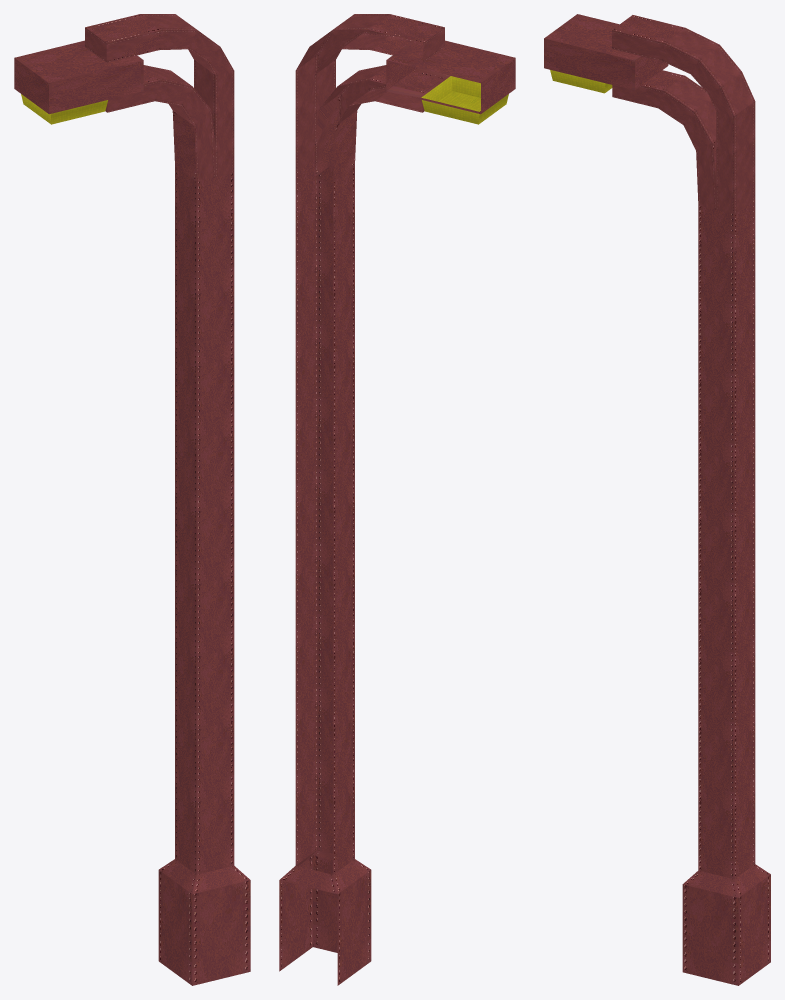
The model's file is stage-sanf-p8-171.glb.
3 renders of one model, left to right at view 1: azimuth 30°, elevation 25°; view 2: azimuth 150°, elevation 25°; view 3: azimuth 330°, elevation 25°, orthographic. The views are drawn at different scales.
Size of the model in its own units: 3 by 13.6 by 0.8967.
2 materials, 2 textured.
